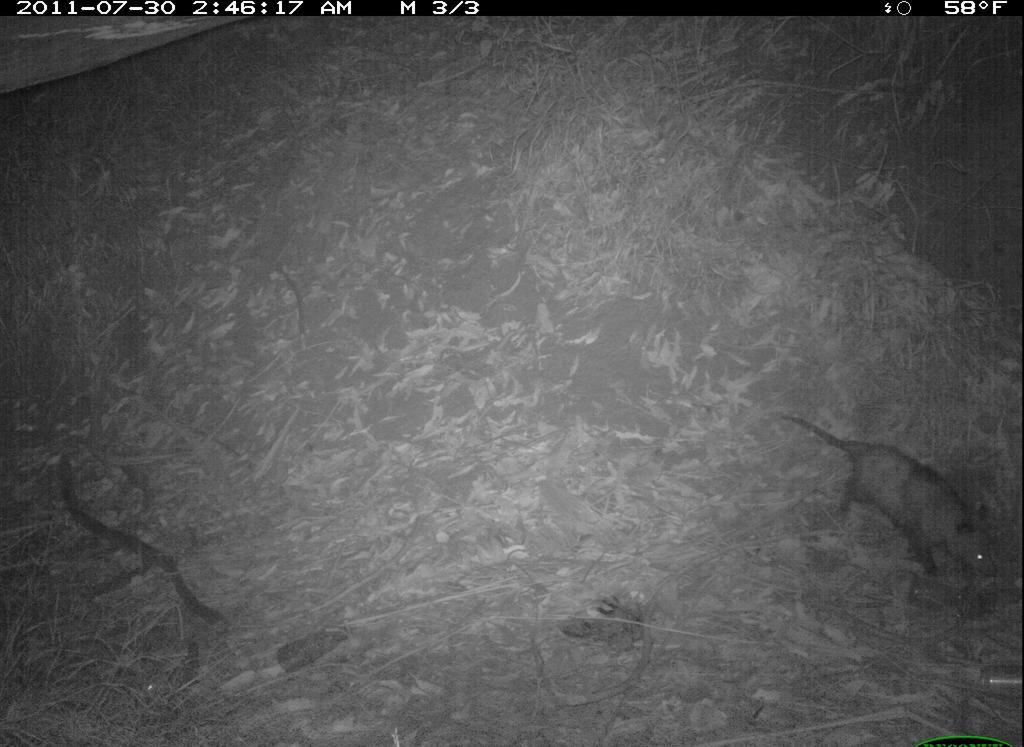opossum: (775, 402, 1001, 598)
